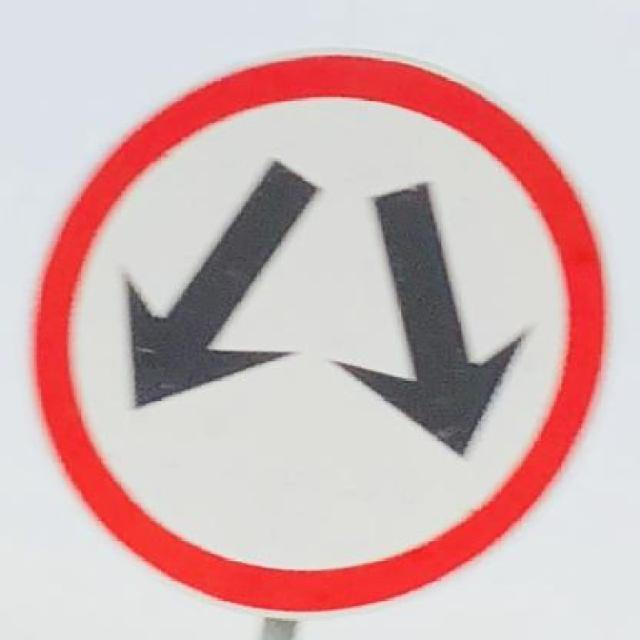pass either side: (31, 51, 606, 614)
